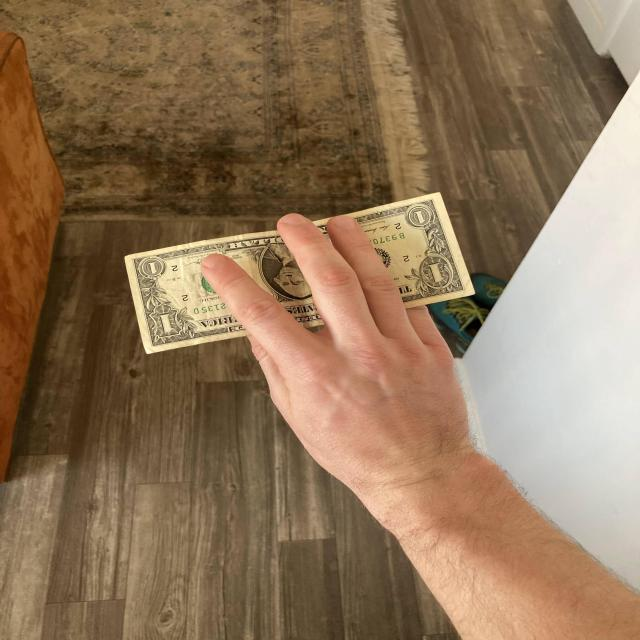one: (121, 189, 477, 357)
